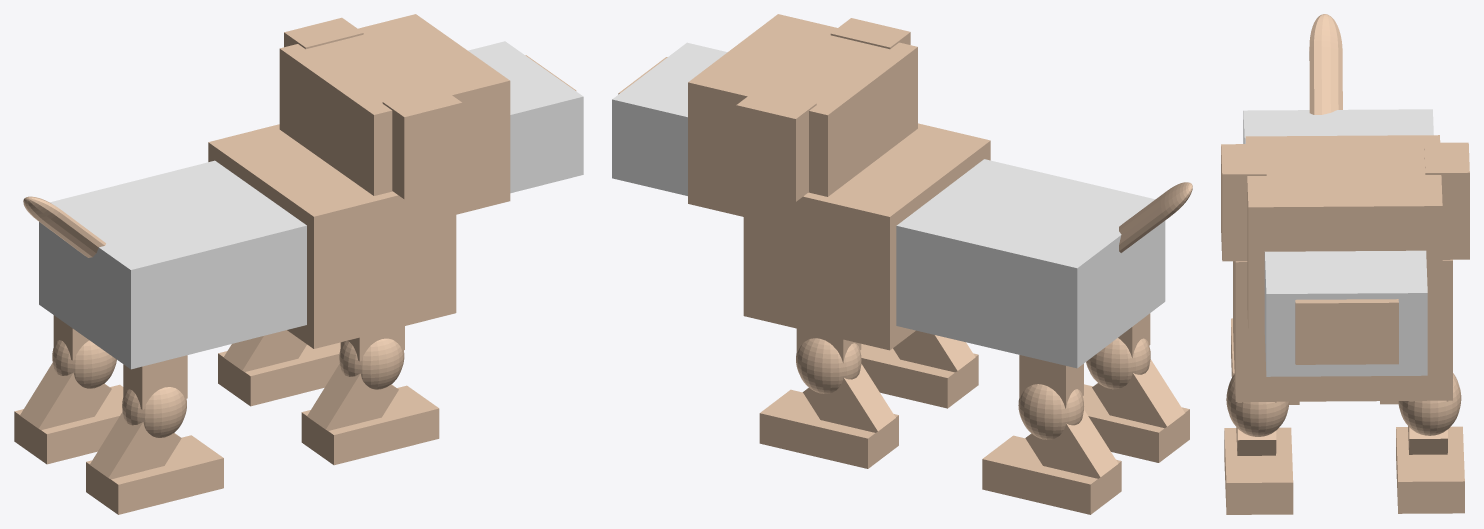
The model's file is dog.dae.
The picture shows the model from 3 angles, left to right: view 1: azimuth 30°, elevation 25°; view 2: azimuth 150°, elevation 25°; view 3: azimuth 270°, elevation 25°; orthographic projection. The views are drawn at different scales.
Visible parts, largest first — view 1: Box3; view 2: Box3; view 3: Box3.
Part boxes in pixels (left/top/right/bottom): Box3: left=14, top=14, right=583, bottom=514; Box3: left=612, top=14, right=1192, bottom=514; Box3: left=1221, top=14, right=1469, bottom=514.
Bounding box in the file's own units: 6.96 × 2.64 × 4.12.
